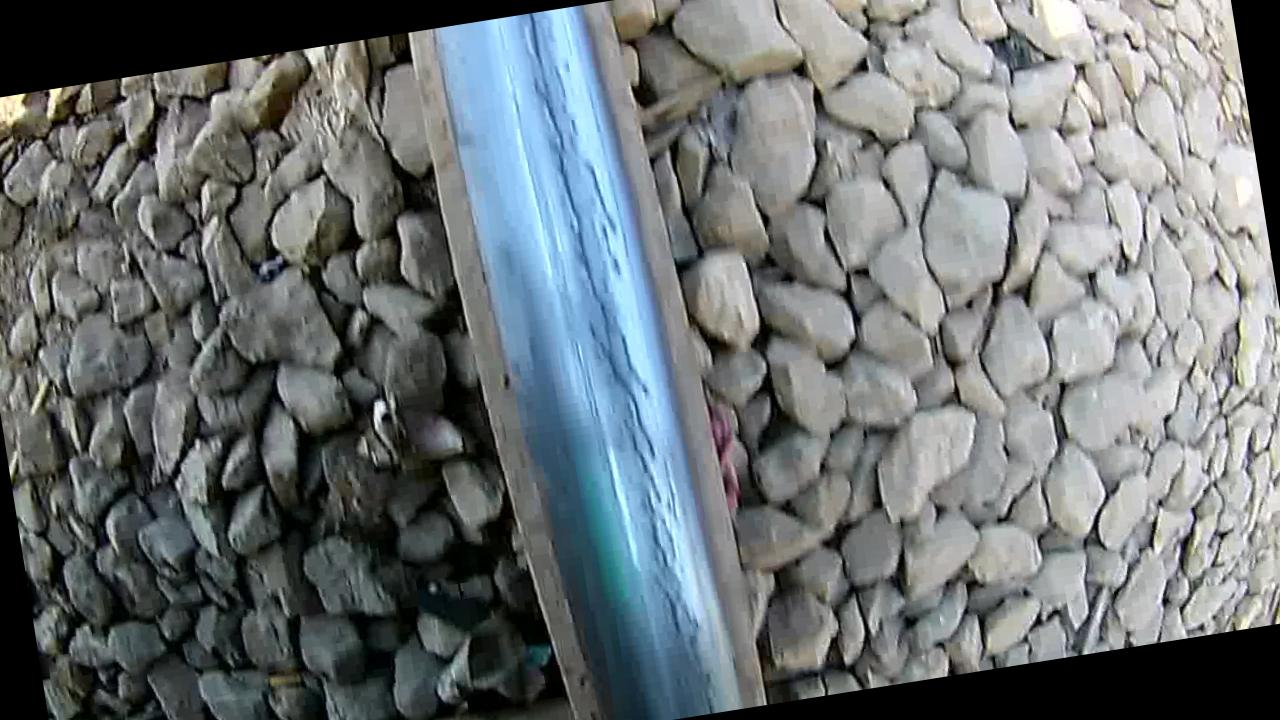normal_track: (499, 2, 720, 720)
